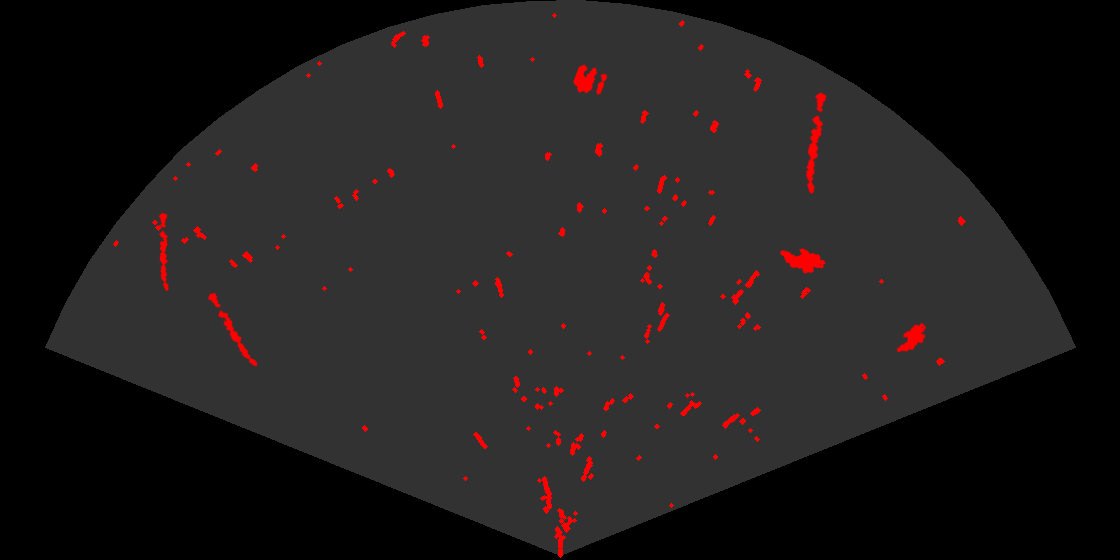AUV: (779, 247, 827, 275), (895, 321, 928, 354)
ball: (572, 63, 609, 96)
chain: (205, 286, 259, 368), (804, 90, 828, 196), (157, 211, 170, 291)
